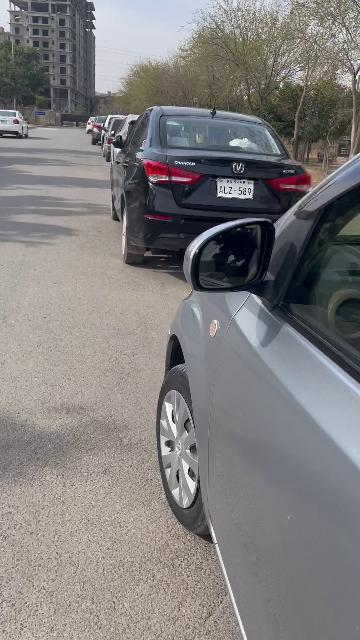plate: (217, 178, 254, 199)
